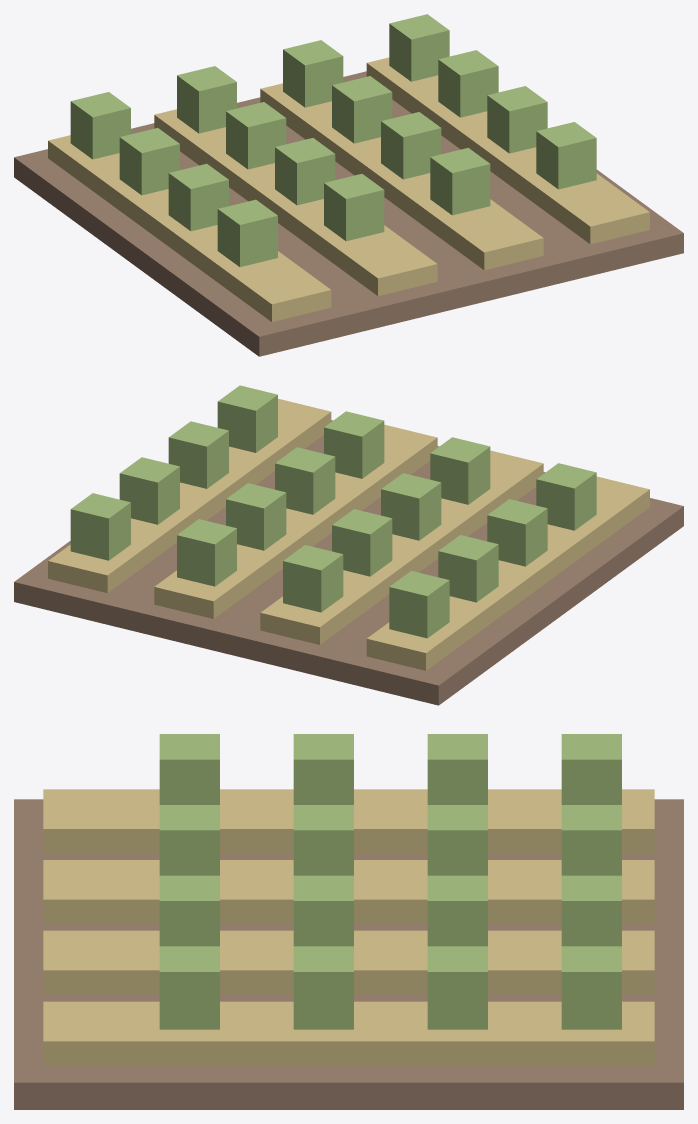
Rendered from vegetable_field_4m.glb.
3 renders of one model, top to bottom at view 1: azimuth 30°, elevation 25°; view 2: azimuth 150°, elevation 25°; view 3: azimuth 270°, elevation 25°, orthographic. The views are drawn at different scales.
Visible parts, largest first — view 1: leaf_light, straw, soil; view 2: leaf_light, straw, soil; view 3: straw, leaf_light, soil.
Part boxes in pixels (left/top/right/bottom): leaf_light: left=70, top=14, right=596, bottom=266; straw: left=48, top=57, right=649, bottom=321; soil: left=14, top=71, right=683, bottom=356; leaf_light: left=70, top=385, right=596, bottom=638; straw: left=48, top=398, right=649, bottom=670; soil: left=14, top=420, right=683, bottom=705; straw: left=43, top=789, right=654, bottom=1065; leaf_light: left=159, top=734, right=621, bottom=1029; soil: left=14, top=799, right=683, bottom=1109.
Bounding box in the file's own units: 4 × 0.76 × 4.
